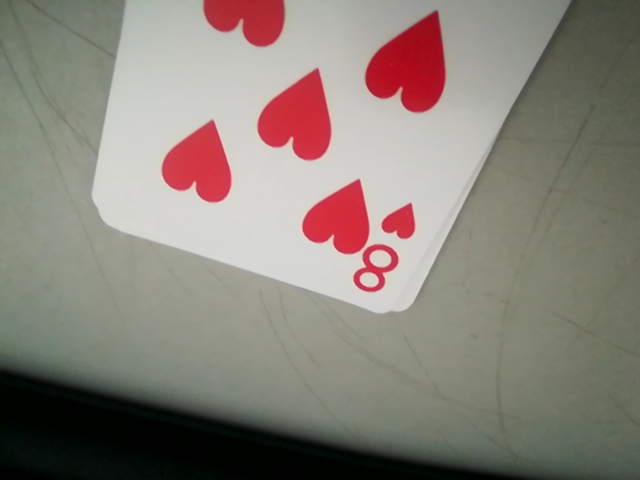hx 8: (354, 203, 426, 295)
